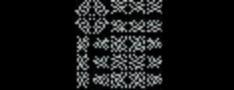cobwebT: (108, 34, 128, 52), (91, 17, 109, 35), (72, 17, 90, 35), (109, 53, 127, 71), (91, 0, 109, 17), (72, 0, 90, 17), (109, 72, 128, 88), (108, 18, 127, 34), (91, 72, 109, 88), (91, 54, 109, 70), (73, 54, 89, 72), (74, 72, 90, 90), (128, 72, 144, 90), (128, 53, 144, 71), (128, 34, 144, 52), (127, 0, 145, 16), (145, 0, 162, 16), (145, 18, 162, 34), (145, 72, 162, 88), (91, 38, 109, 52), (74, 35, 88, 53), (127, 19, 145, 33), (146, 53, 162, 68), (109, 0, 126, 14), (146, 37, 162, 51)
